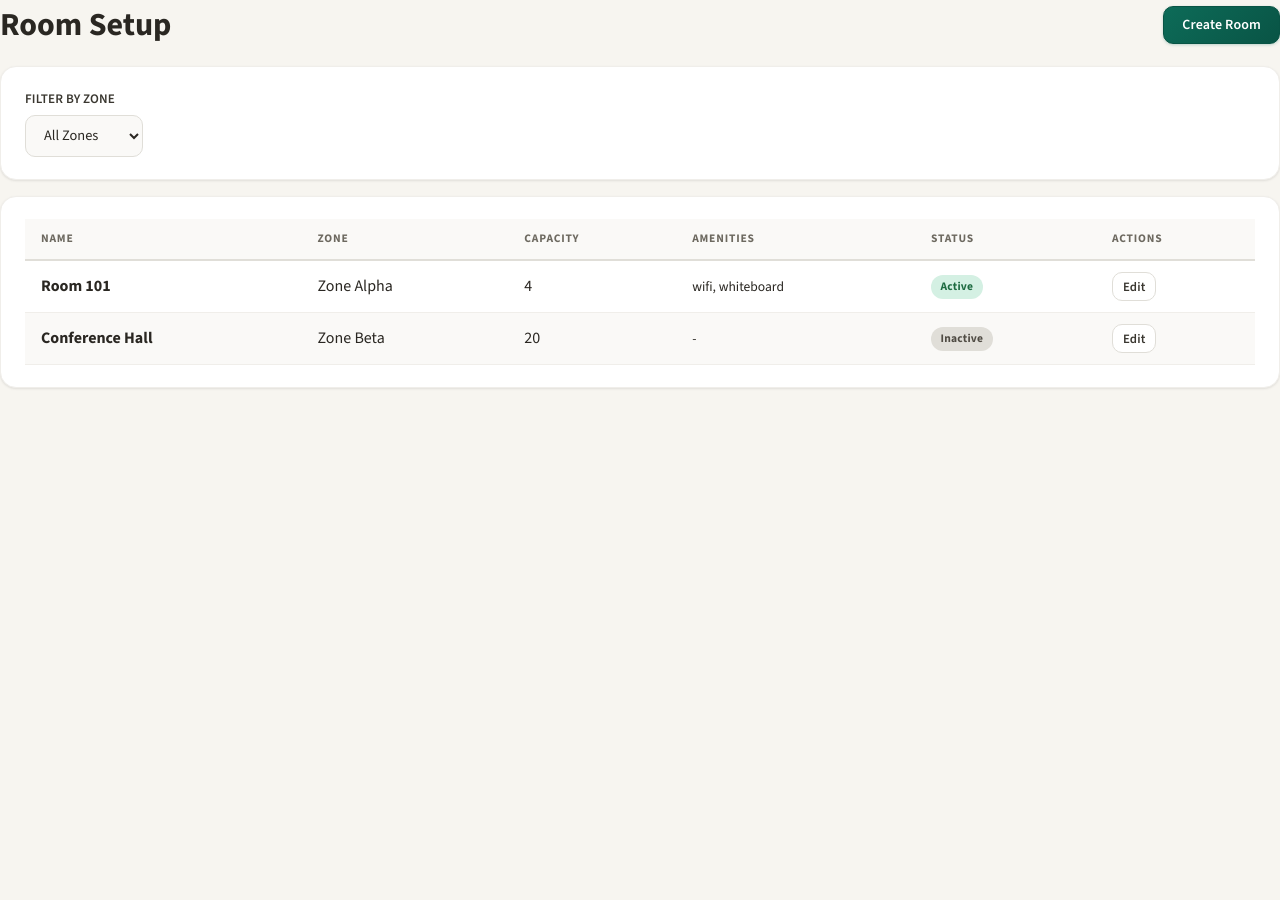
Test case: RoomSetupPage › Create Room modal › opens Create Room modal when button is clicked
Click the button "Create Room". click: {"x": 1222, "y": 25}
box: [1163, 6, 1279, 44]
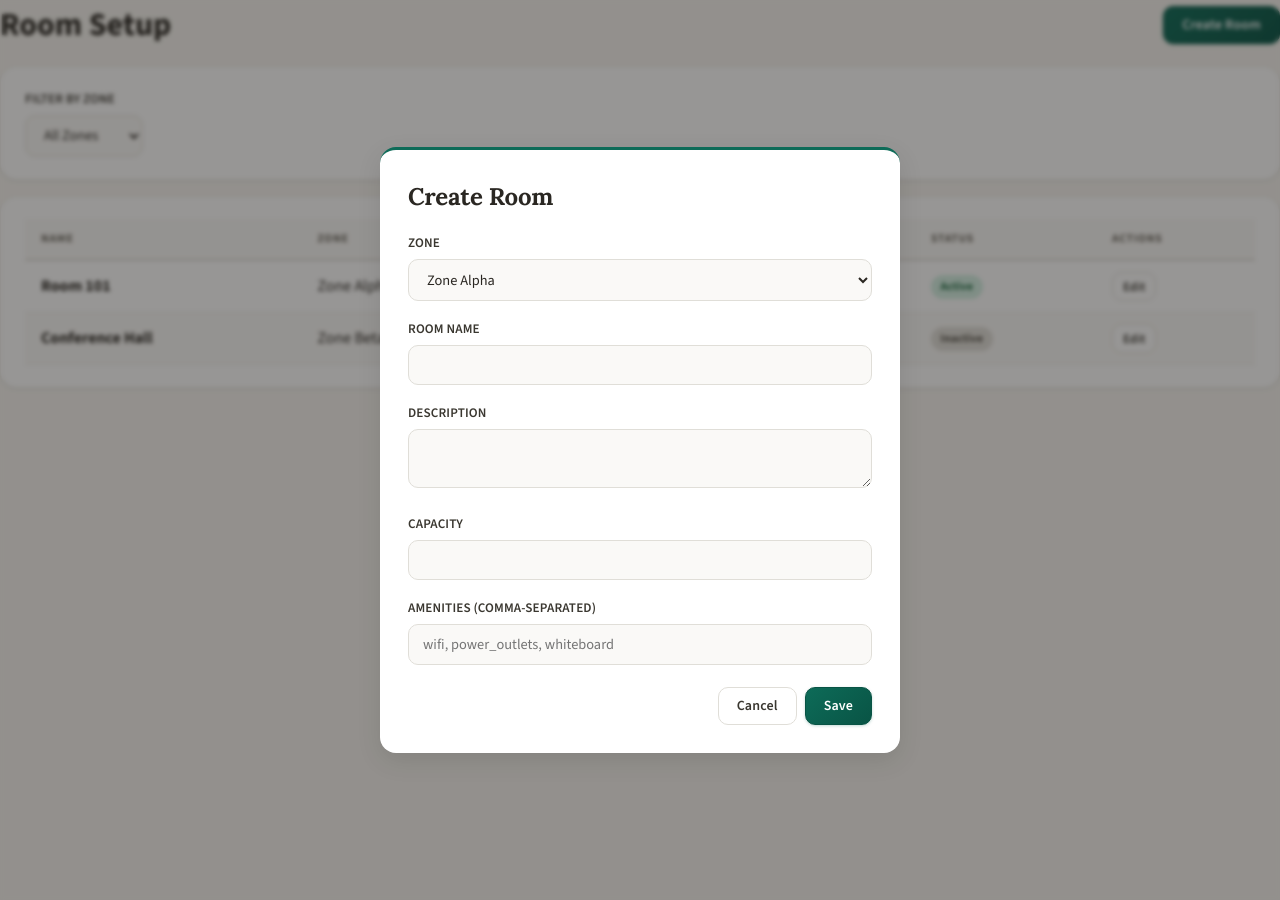
Expected: the heading "Create Room" is shown, [408, 181, 553, 212]
